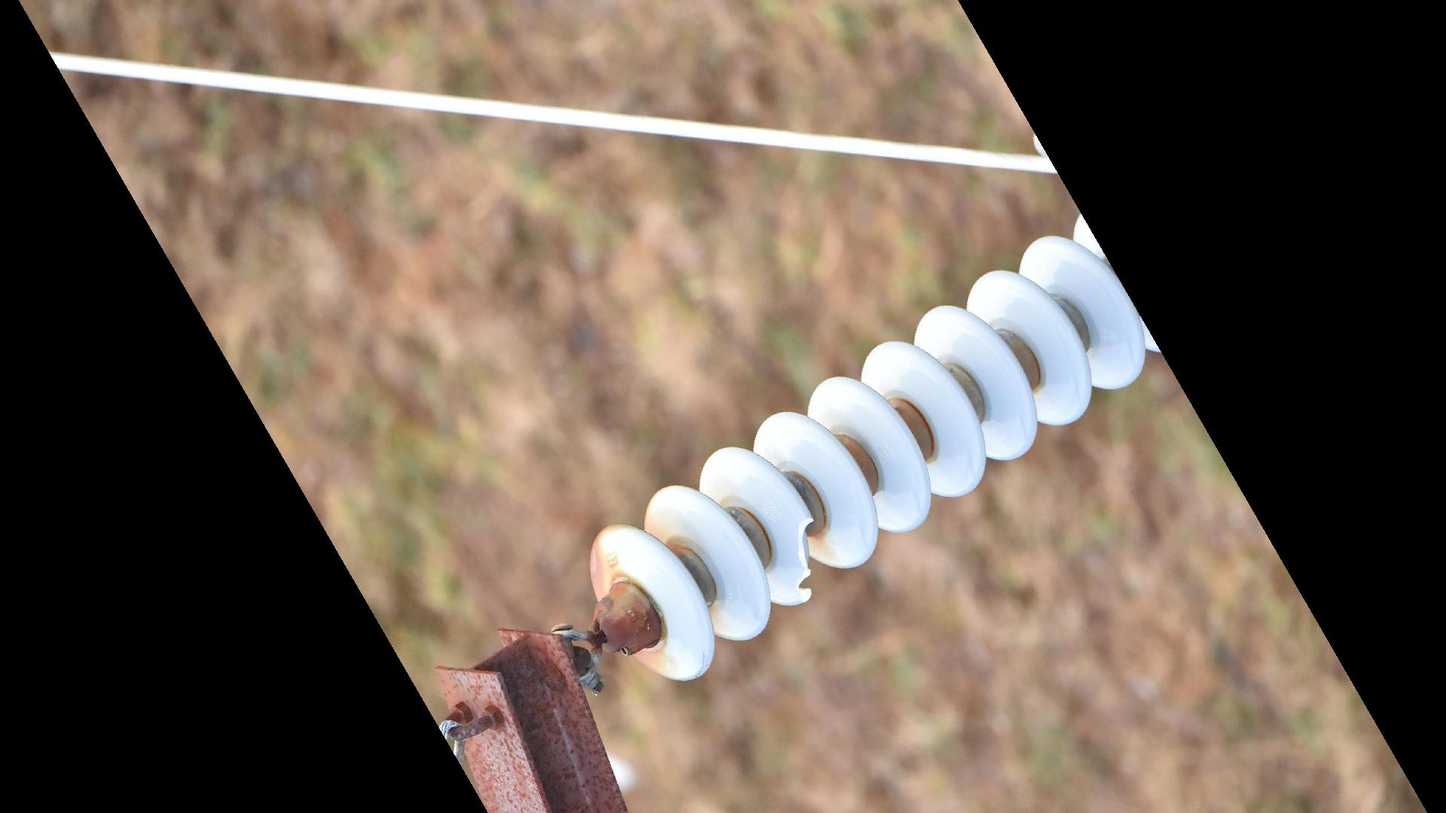insulator: (581, 209, 1167, 690)
insulator_breakage: (780, 502, 828, 612)
